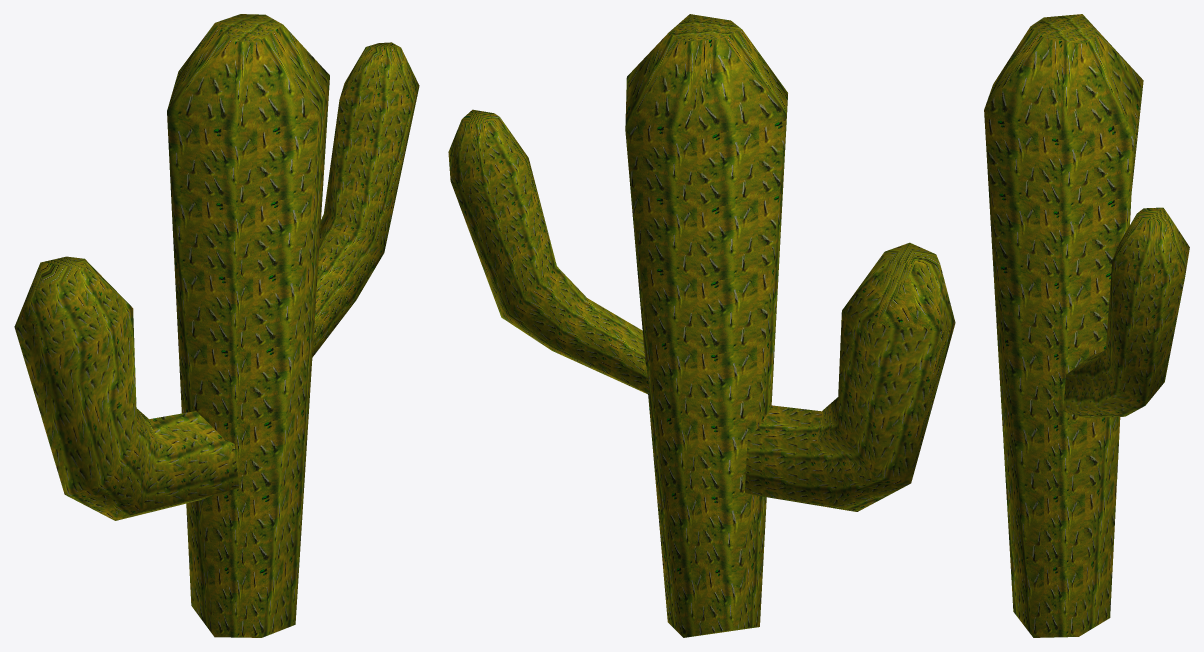
Rendered from Cactus.FBX.
The picture shows the model from 3 angles, left to right: view 1: azimuth 30°, elevation 25°; view 2: azimuth 150°, elevation 25°; view 3: azimuth 270°, elevation 25°; orthographic projection.
Visible parts, largest first — view 1: Cactus_01; view 2: Cactus_01; view 3: Cactus_01.
Boxes of the visible parts, box(x1,y1,x2,y2) form: Cactus_01: box(14, 14, 419, 637); Cactus_01: box(448, 14, 955, 637); Cactus_01: box(984, 14, 1189, 637).
Size of the model in its own units: 334 by 426 by 133.
